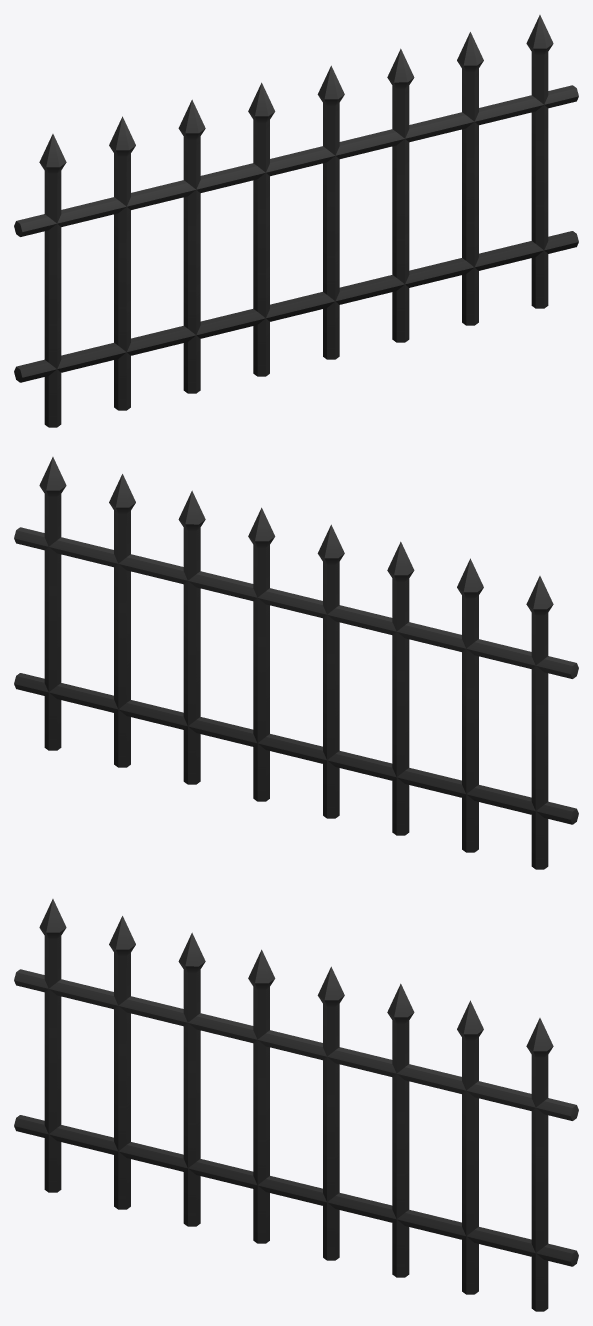
Rendered from kay-cerca-ferro.gltf.
3 renders of one model, top to bottom at view 1: azimuth 30°, elevation 25°; view 2: azimuth 150°, elevation 25°; view 3: azimuth 330°, elevation 25°, orthographic.
Parts seen in each view (by area): view 1: fence_seperate; view 2: fence_seperate; view 3: fence_seperate.
Part boxes in pixels (x1,y1,x2,y2): fence_seperate: (14,15,578,427); fence_seperate: (14,457,578,869); fence_seperate: (14,899,578,1311).
Size of the model in its own units: 2 by 1 by 0.0847.
Materials: 1 (1 with a texture image).
